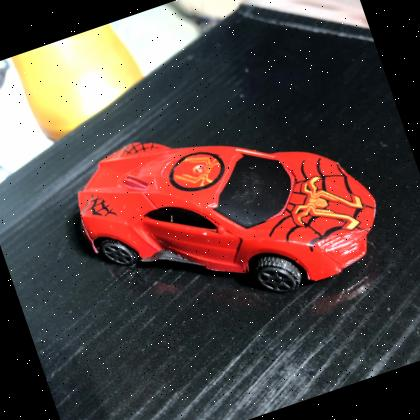Car: (51, 58, 408, 365)
